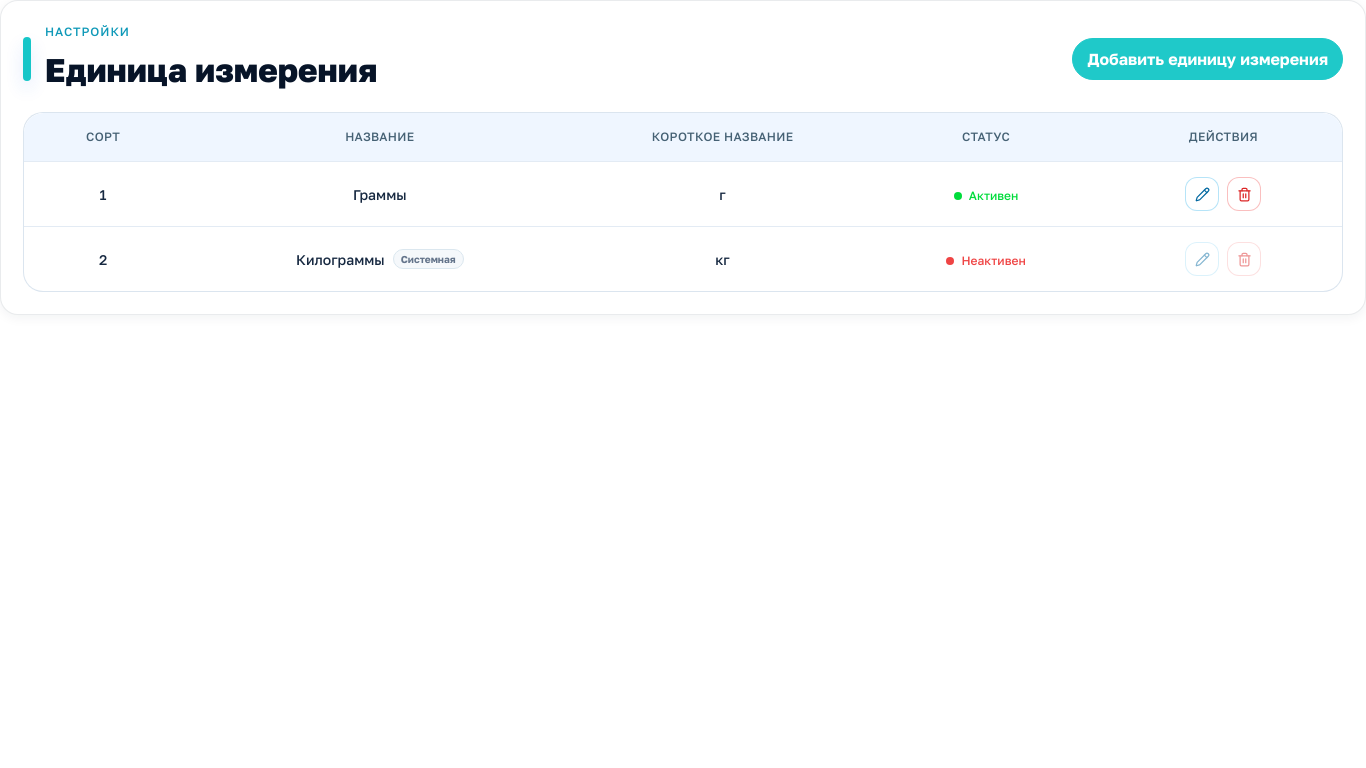
SettingsUnitsPage — add/edit modal contract › edit modal pre-fills row values with matching title
The image size is (1366, 768).
expect the text "Граммы" is shown: met, box [353,184,407,205]
Click the button named "Редактировать": [1202, 194] box [1185,177,1219,211]
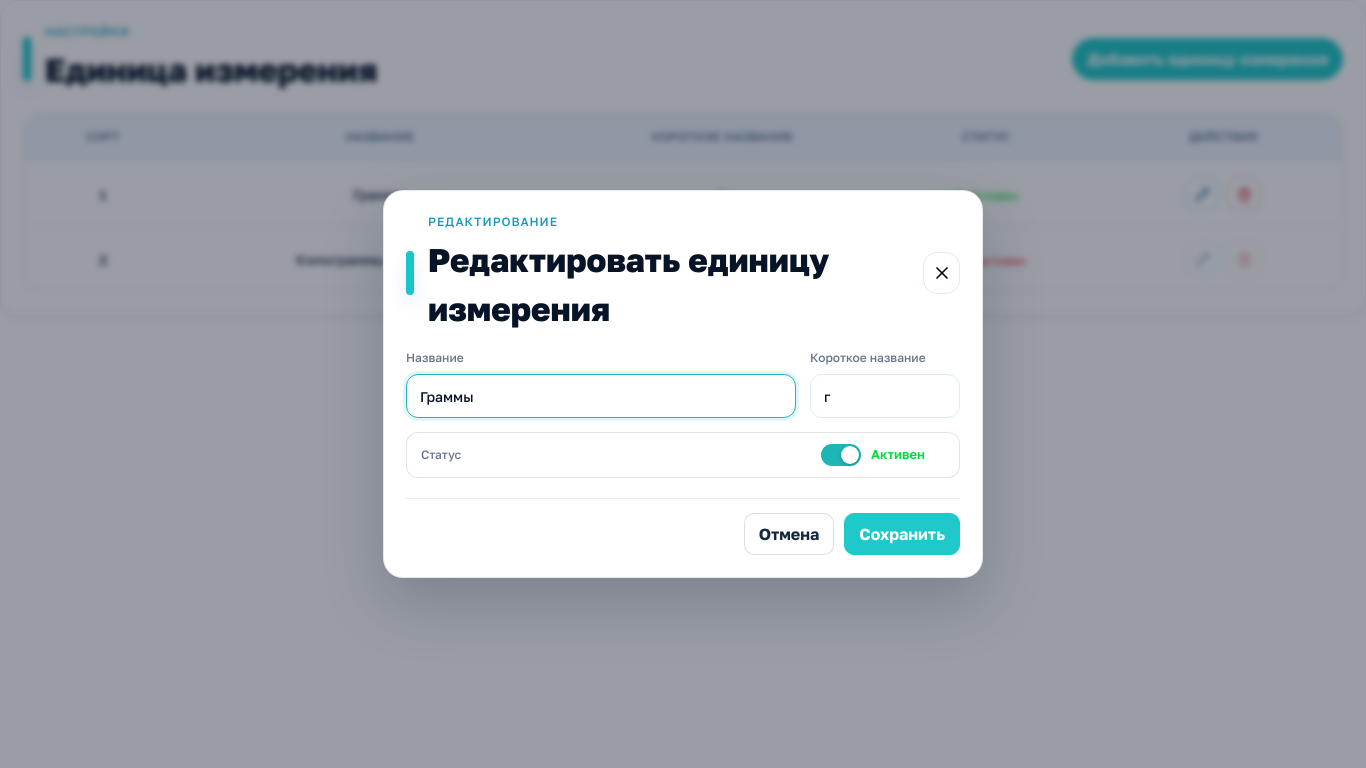
expect the heading "Редактировать единицу измерения" is shown: met, box [428,240,829,328]
expect the field labelled "Название" holds "Граммы": met, box [406,374,796,418]
expect the field labelled "Короткое название" holds "г": met, box [810,374,960,418]
